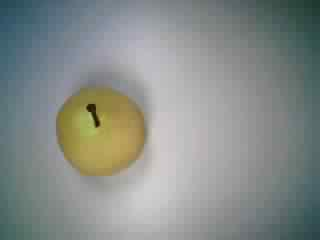pear: (46, 77, 154, 191)
